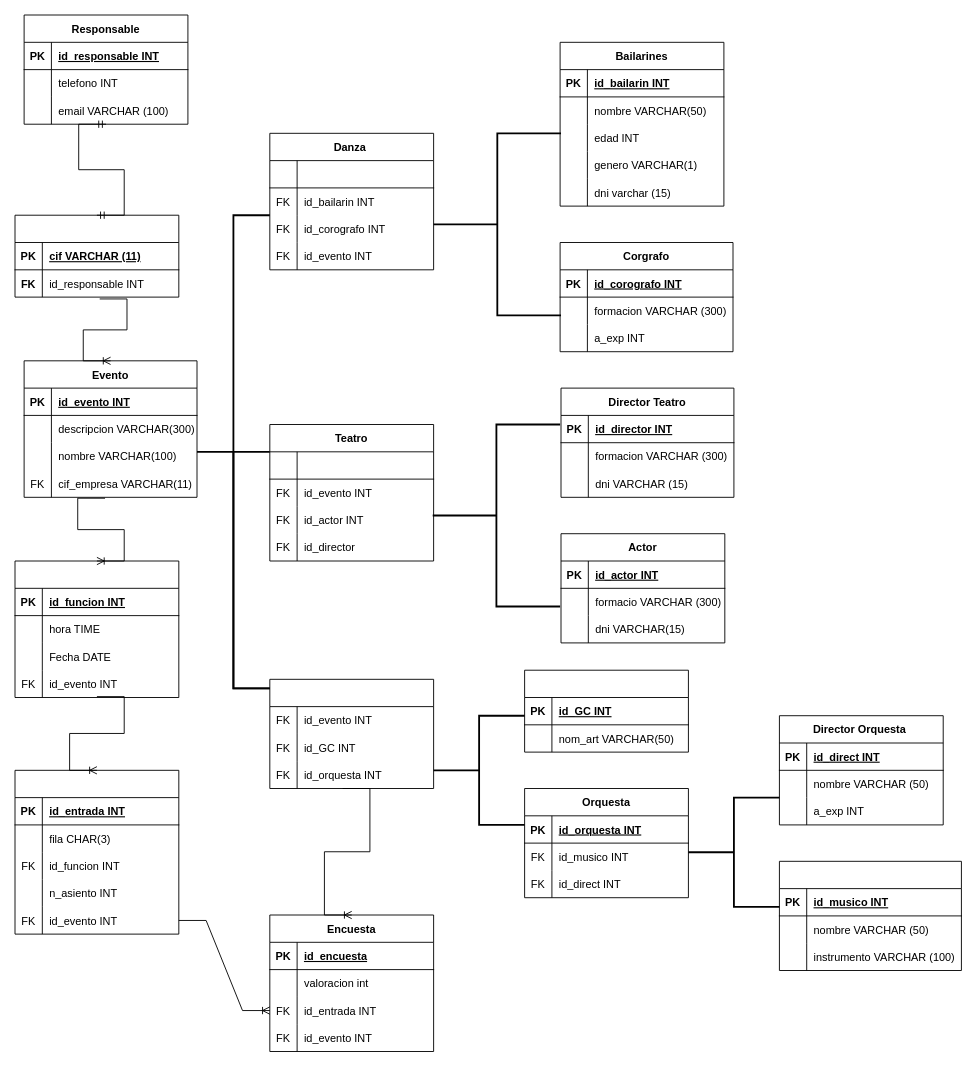
Some shapes in this 976 by 1067 pixel diagram are drawn without their labels. Here are the shapes that lost their labels. From the top down, the box of each, then its label:
(14, 214, 179, 297): Empresa Organiza
(14, 560, 179, 698): Funciones
(524, 669, 688, 752): Grup_Can
(269, 678, 434, 789): Musica
(14, 769, 179, 934): Entradas
(779, 860, 961, 971): Musicos
